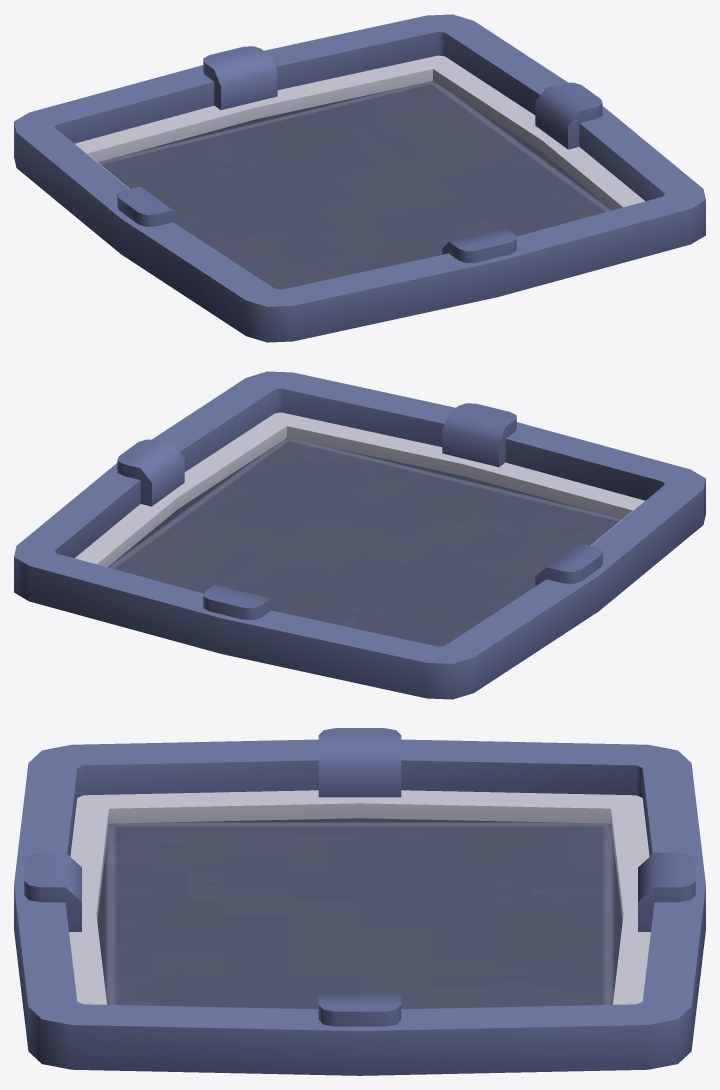
The model's file is template-floor-layer.glb.
3 renders of one model, top to bottom at view 1: azimuth 30°, elevation 25°; view 2: azimuth 150°, elevation 25°; view 3: azimuth 270°, elevation 25°, orthographic. The views are drawn at different scales.
Parts seen in each view (by area): view 1: template-floor-layer; view 2: template-floor-layer; view 3: template-floor-layer.
Boxes of the visible parts, x1=… form: template-floor-layer: x1=14, y1=14, x2=705, y2=342; template-floor-layer: x1=14, y1=371, x2=705, y2=699; template-floor-layer: x1=14, y1=728, x2=705, y2=1075.
Size of the model in its own units: 4.2 by 0.3999 by 4.2.
1 material, 1 textured.
